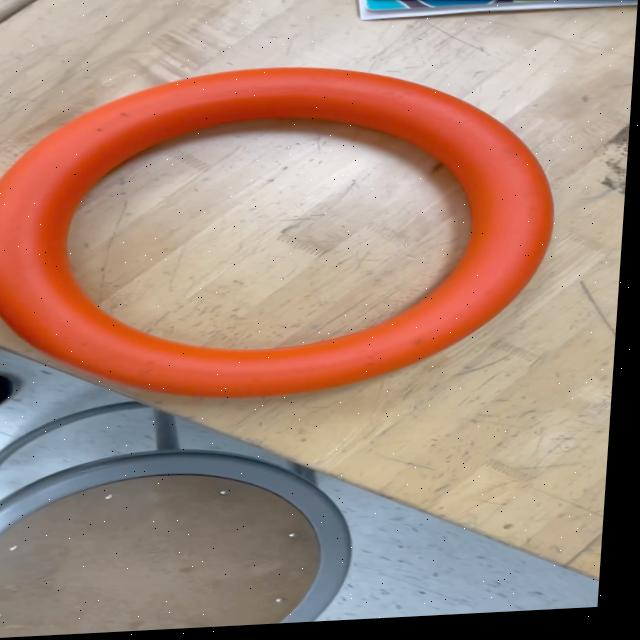note: (0, 57, 571, 417)
